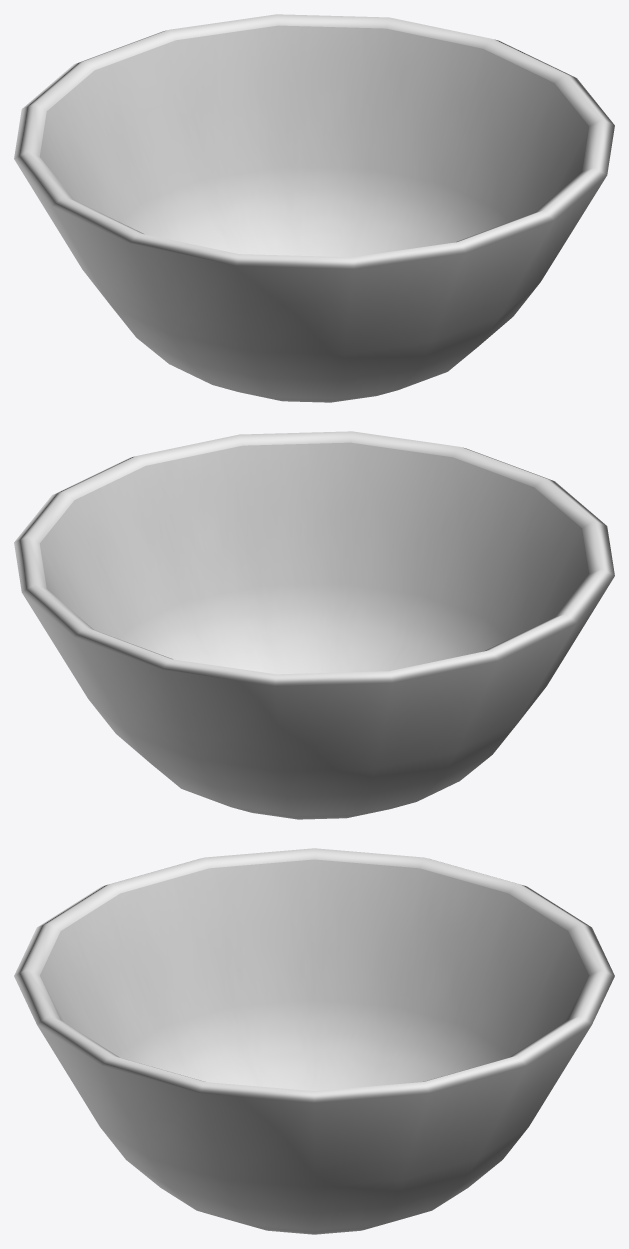
The model's file is 005-Bowl.FBX.
3 renders of one model, top to bottom at view 1: azimuth 30°, elevation 25°; view 2: azimuth 150°, elevation 25°; view 3: azimuth 270°, elevation 25°, orthographic.
Parts seen in each view (by area): view 1: 005-Bowl; view 2: 005-Bowl; view 3: 005-Bowl.
Boxes of the visible parts, x1,y1,x2,y2 form: 005-Bowl: [14, 14, 614, 402]; 005-Bowl: [14, 431, 614, 819]; 005-Bowl: [14, 848, 614, 1234].
Size of the model in its own units: 21.83 by 8.53 by 21.83.
